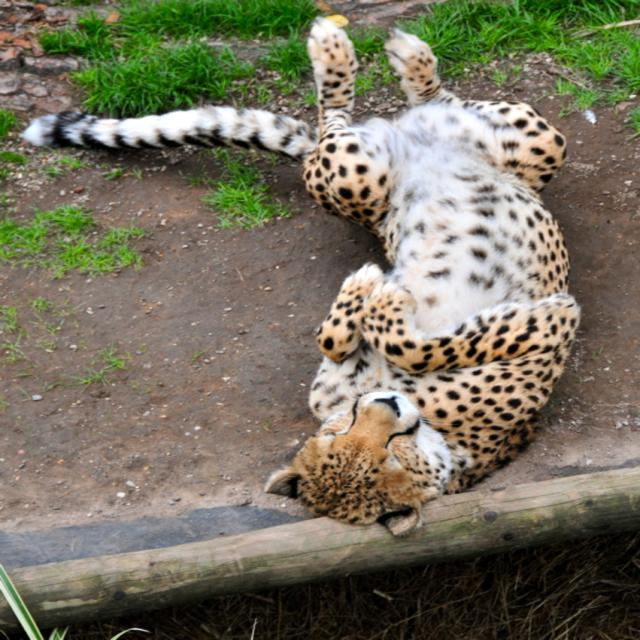Cheetah: (21, 16, 581, 538)
